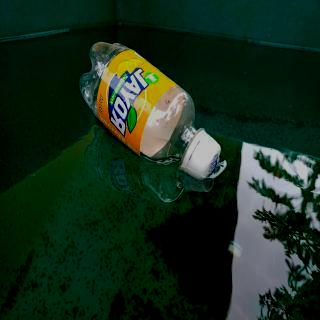bottle: (77, 37, 222, 183)
